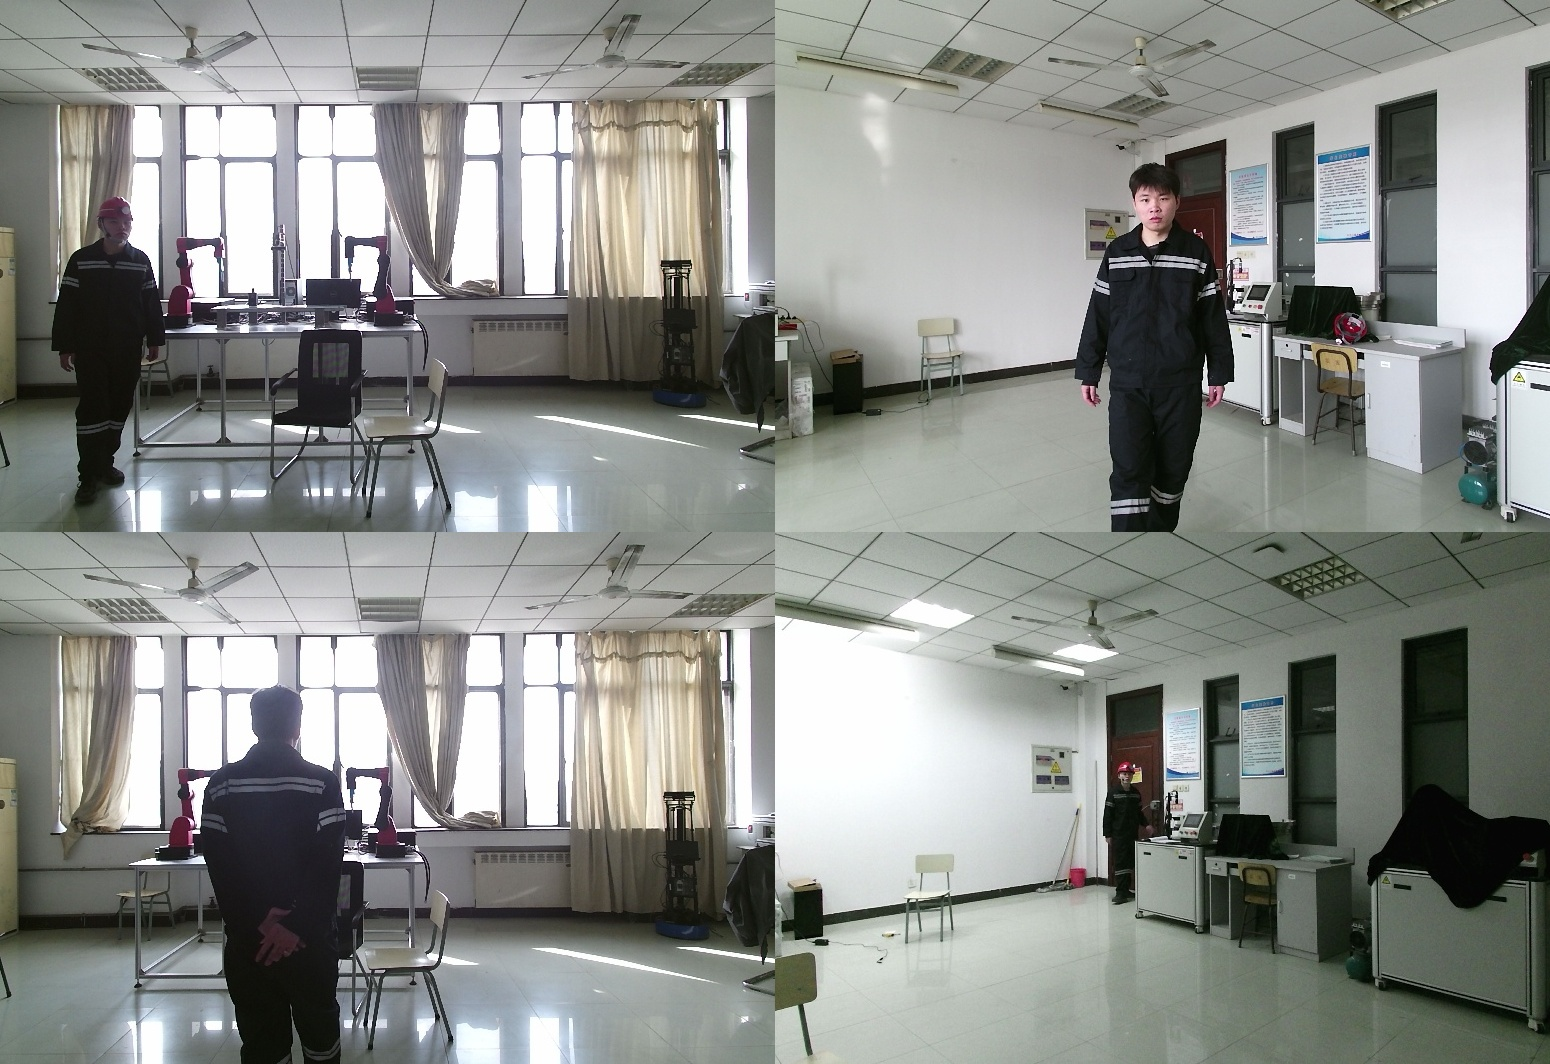person: (1076, 165, 1245, 532), (201, 686, 362, 1064), (54, 198, 167, 501), (1100, 760, 1145, 906)
